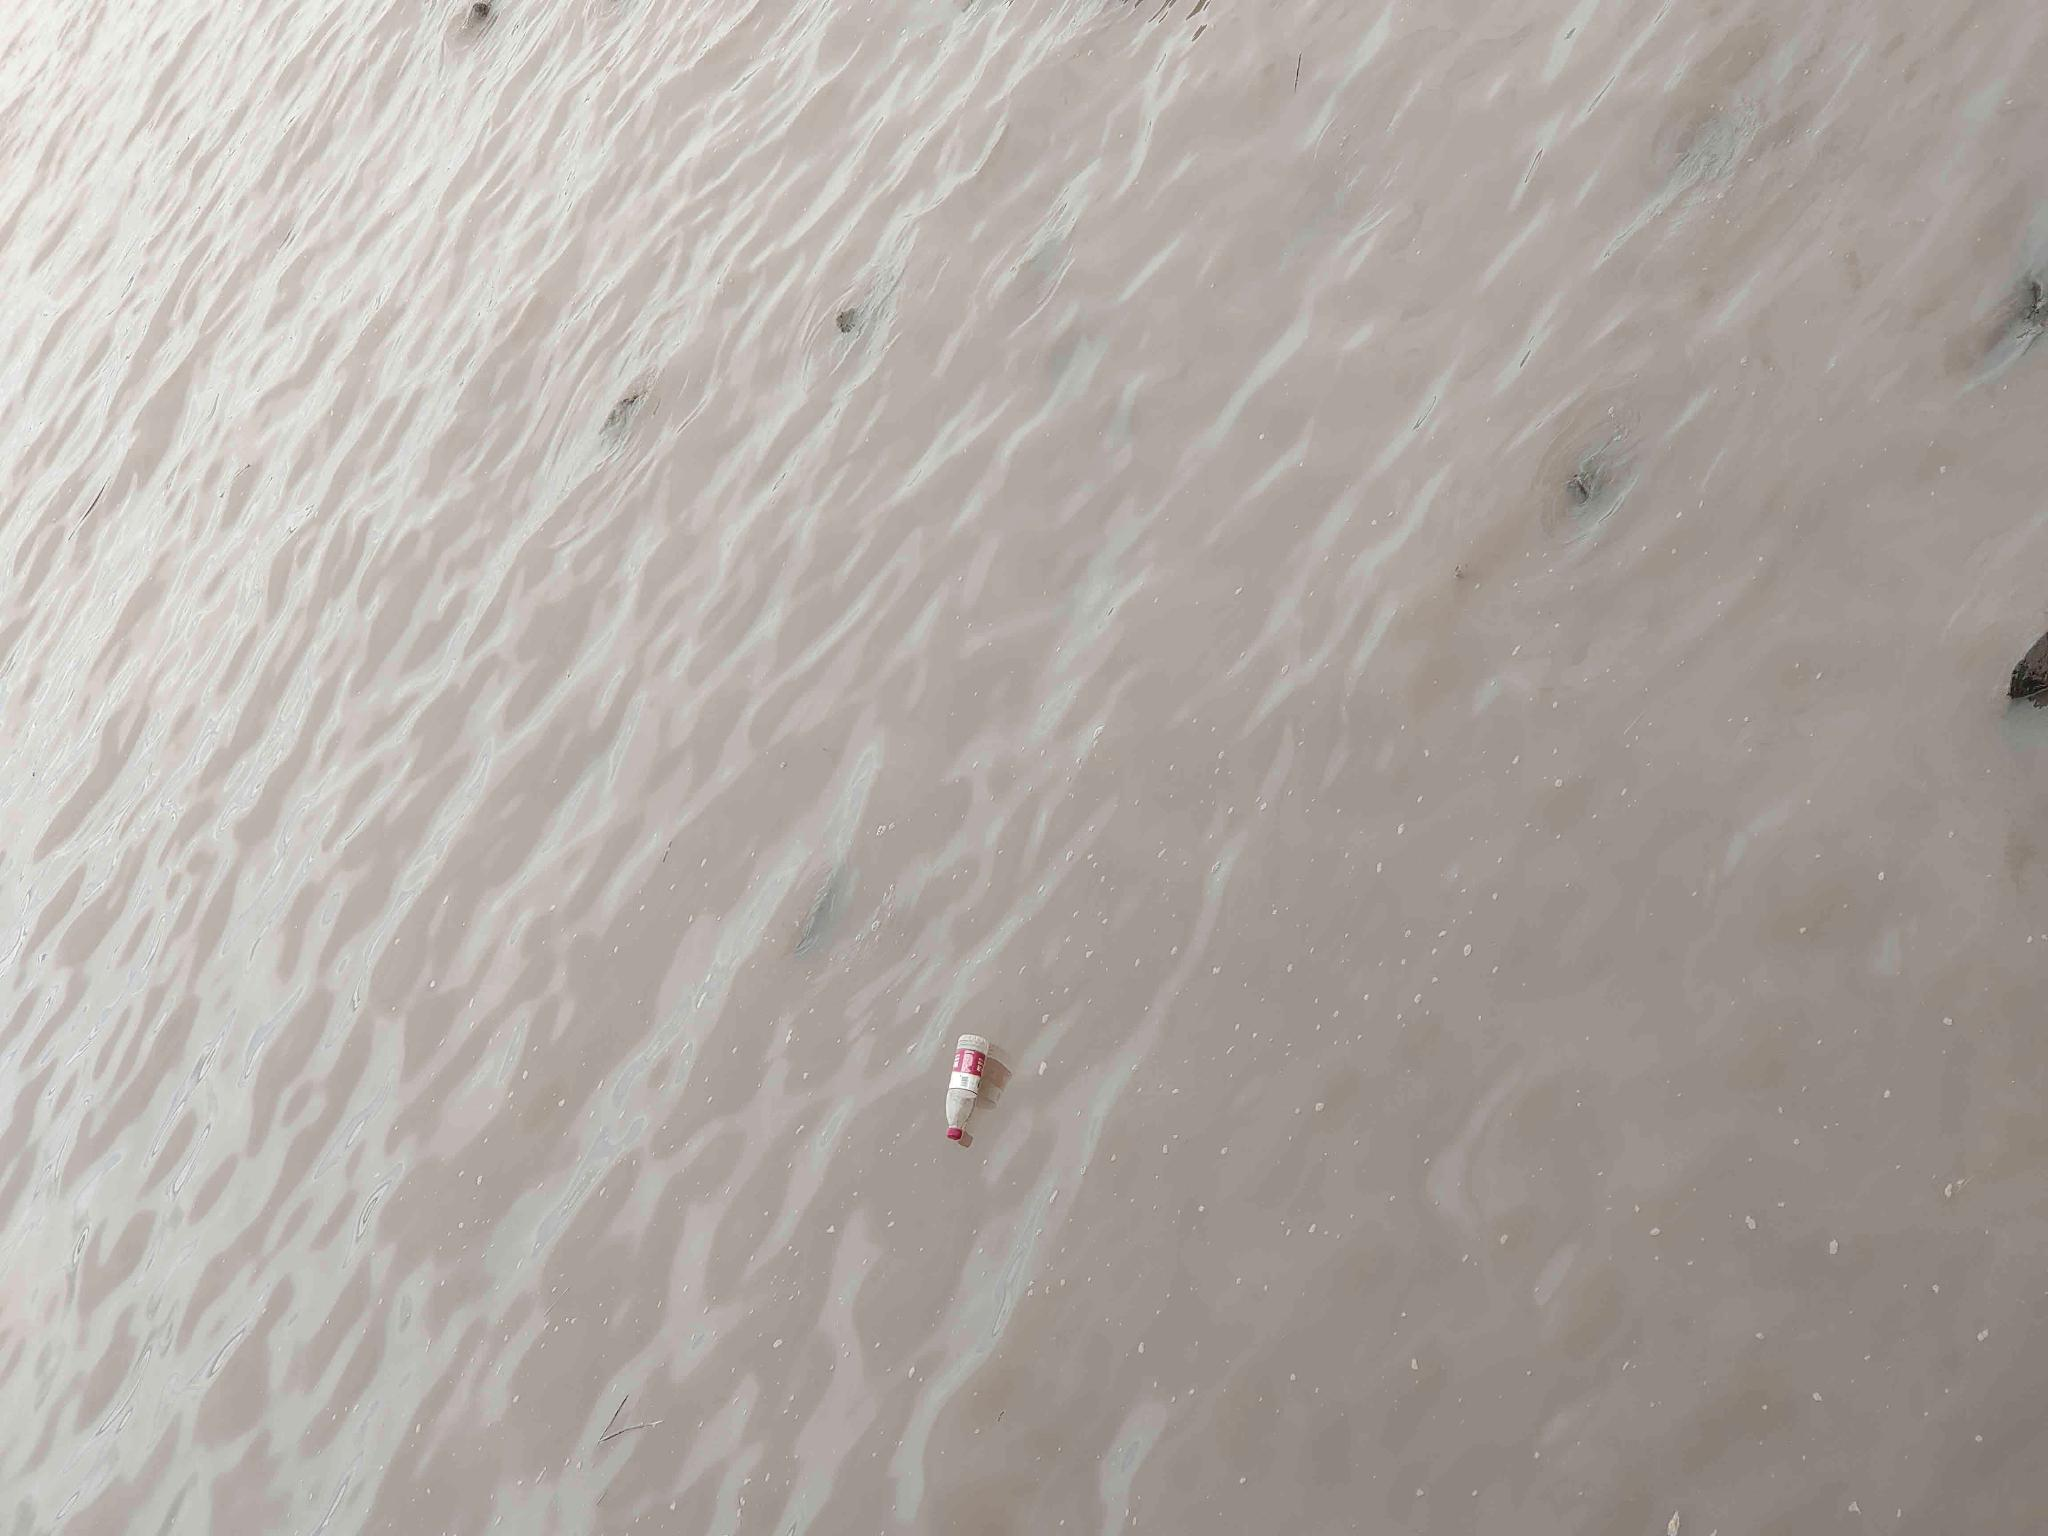Plastic: (942, 1033, 987, 1147)
